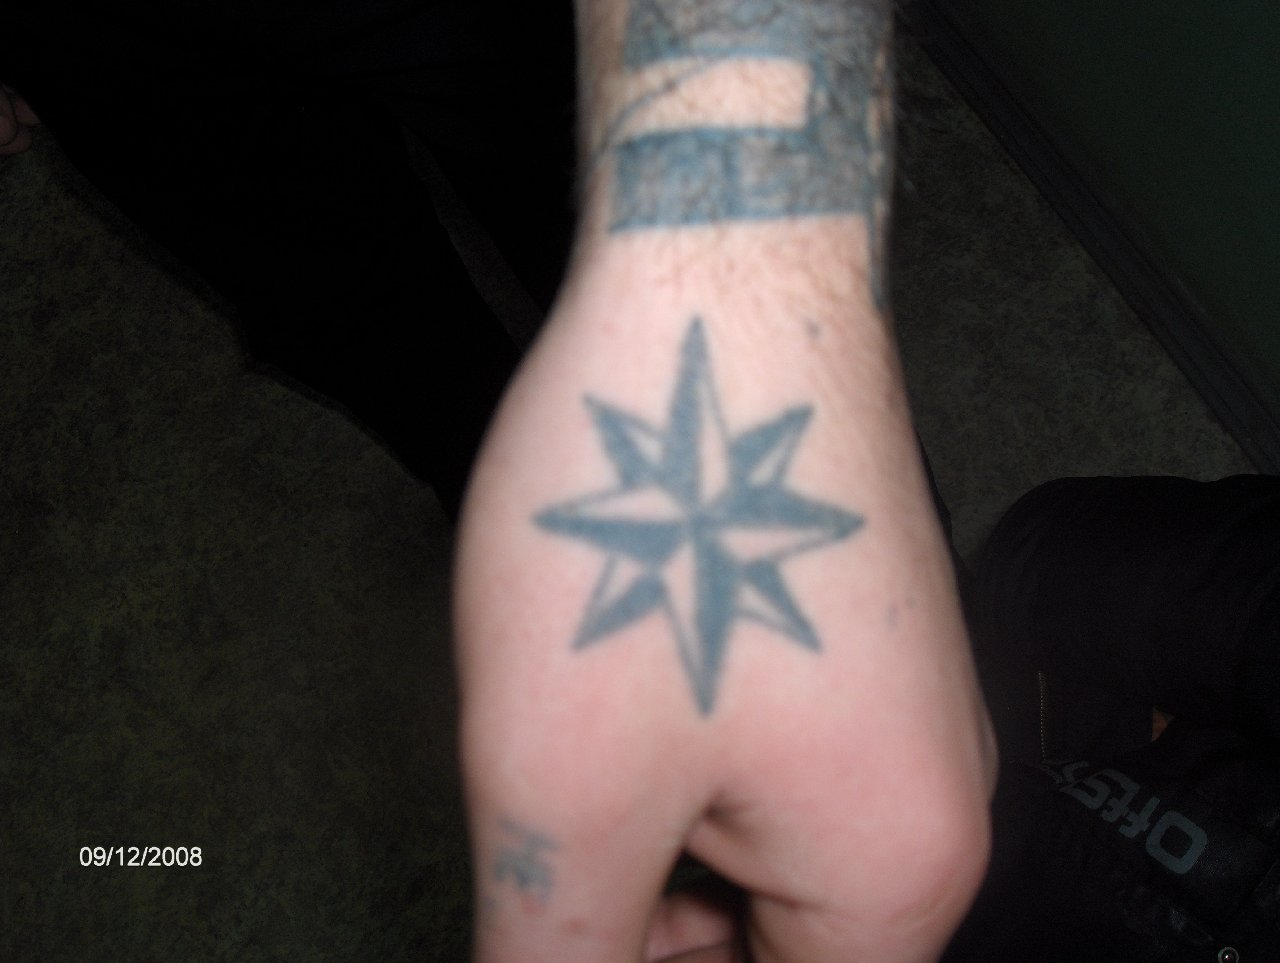tatu4_zvezda: (500, 307, 920, 726)
